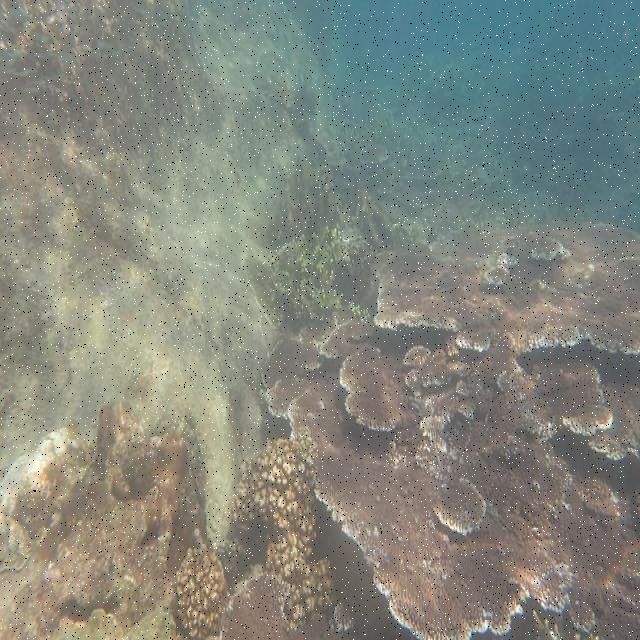reefs: (262, 320, 639, 639), (375, 220, 639, 355), (232, 431, 354, 630), (176, 543, 228, 639)
sea-floor: (0, 1, 367, 638)
